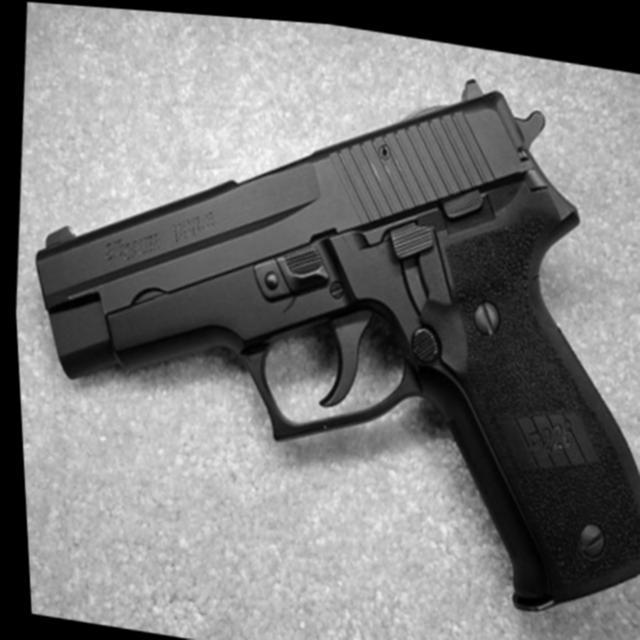weapon: (0, 5, 640, 621)
